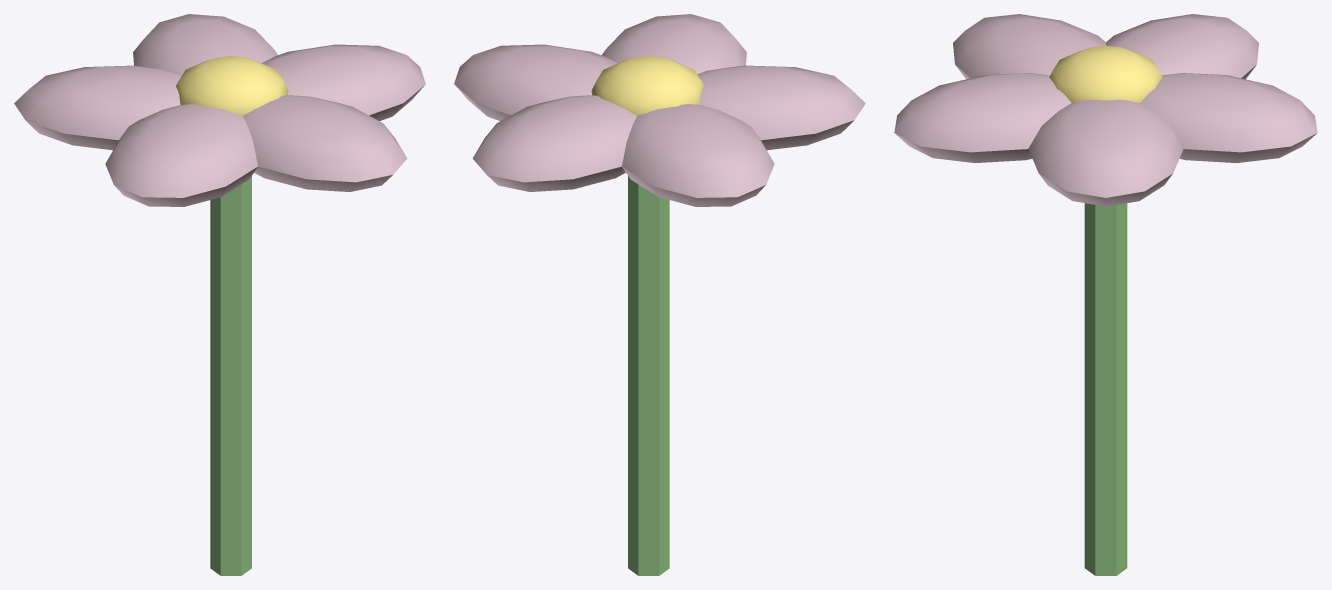
Rendered from ENV_Forest_Flower.fbx.
The picture shows the model from 3 angles, left to right: view 1: azimuth 30°, elevation 25°; view 2: azimuth 150°, elevation 25°; view 3: azimuth 270°, elevation 25°; orthographic projection.
Parts seen in each view (by area): view 1: ENV_Forest_Flower; view 2: ENV_Forest_Flower; view 3: ENV_Forest_Flower.
Boxes of the visible parts, box(x1,y1,x2,y2) form: ENV_Forest_Flower: box(14, 14, 425, 575); ENV_Forest_Flower: box(454, 14, 865, 575); ENV_Forest_Flower: box(894, 14, 1317, 575).
Bounding box in the file's own units: 0.2337 × 0.321 × 0.2397.
